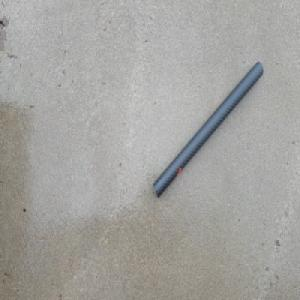LuggagePart: (153, 59, 264, 199)
